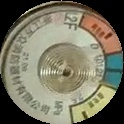green: (101, 54, 124, 94)
needle: (90, 79, 120, 92)
red: (80, 14, 123, 56)
yellow: (70, 86, 117, 124)
